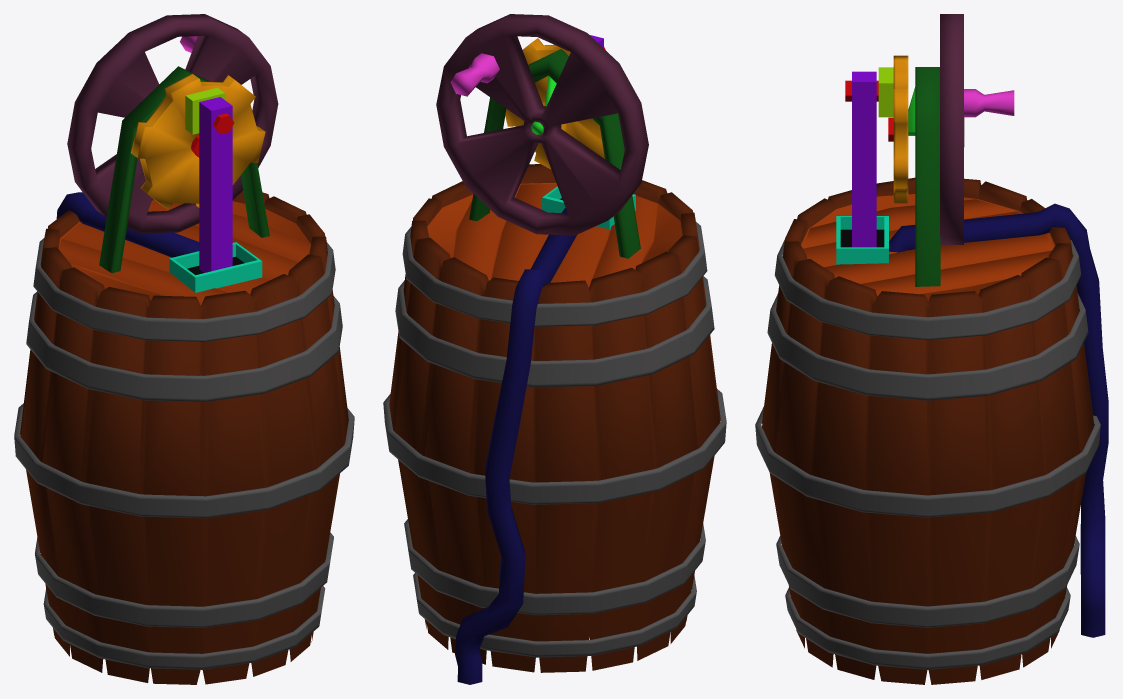
The model's file is Waterpump_NoAnim.glb.
3 renders of one model, left to right at view 1: azimuth 30°, elevation 25°; view 2: azimuth 150°, elevation 25°; view 3: azimuth 270°, elevation 25°, orthographic.
Visible parts, largest first — view 1: Waterbarrelpump; view 2: Waterbarrelpump; view 3: Waterbarrelpump.
Part boxes in pixels (<box>): Waterbarrelpump: <box>14,14,354,684</box>; Waterbarrelpump: <box>383,14,726,684</box>; Waterbarrelpump: <box>755,14,1108,684</box>.
Size of the model in its own units: 0.6212 by 1.2 by 0.6356.
